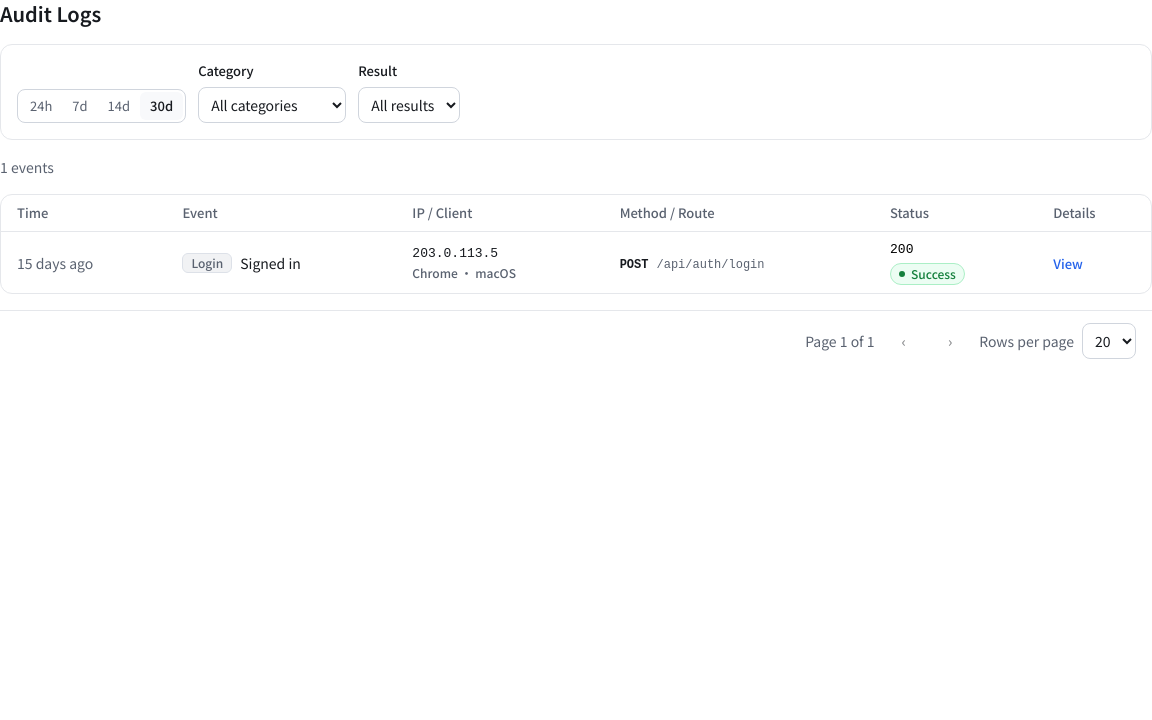
Test case: audit logs page › renders login-specific detail fields
The width and height of the screenshot is (1152, 720).
Expected: the text "Signed in" is shown, x1=240 y1=252 x2=301 y2=274
Click the button "View" at point(1068, 264), box x1=1053 y1=254 x2=1083 y2=274
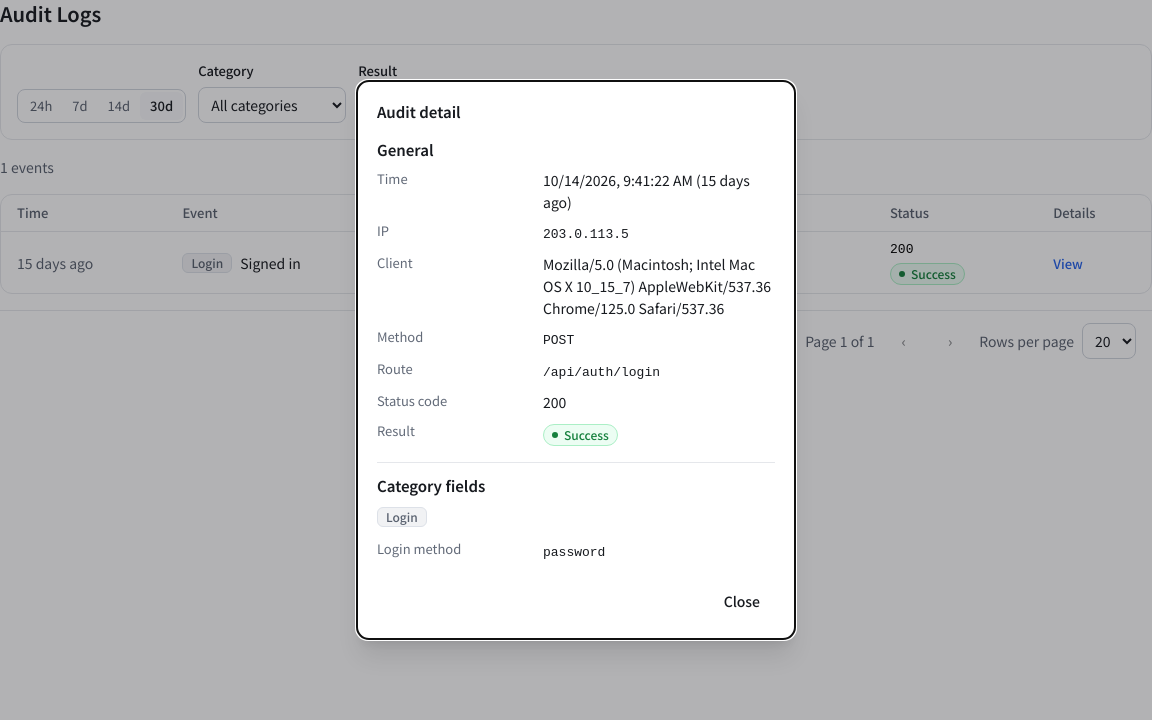
Now the text "Login method" is shown, box x1=377 y1=539 x2=461 y2=558
Now the text "password" is shown, box x1=543 y1=545 x2=605 y2=560
